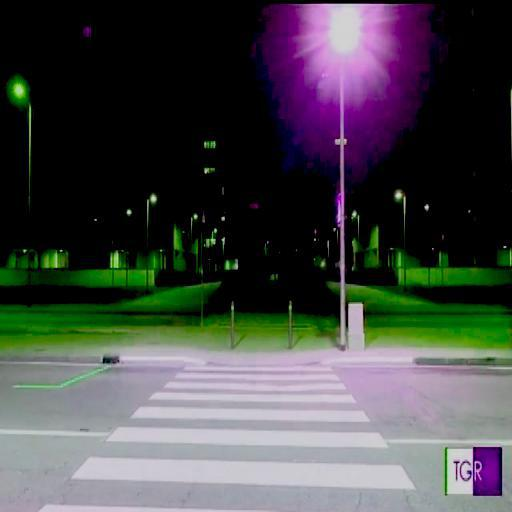crosswalk: (70, 422, 422, 498), (135, 378, 364, 406)
